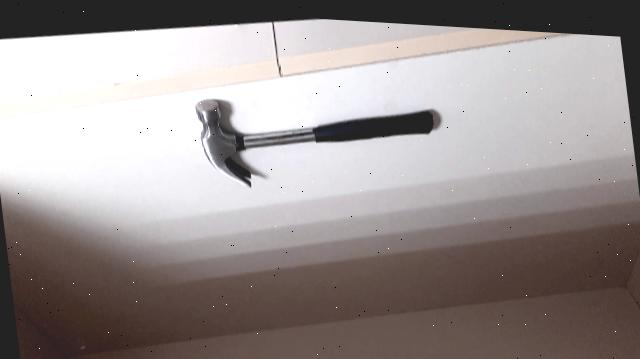hammer: (186, 61, 456, 202)
